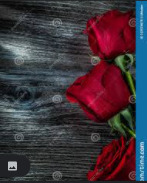RedRose: (69, 56, 135, 121), (82, 7, 136, 56), (83, 134, 136, 180)
